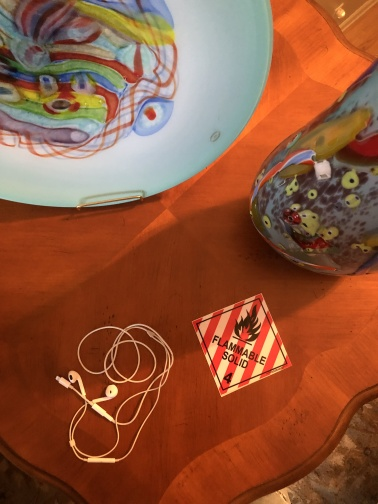FlammableSolid: (196, 296, 298, 393)
